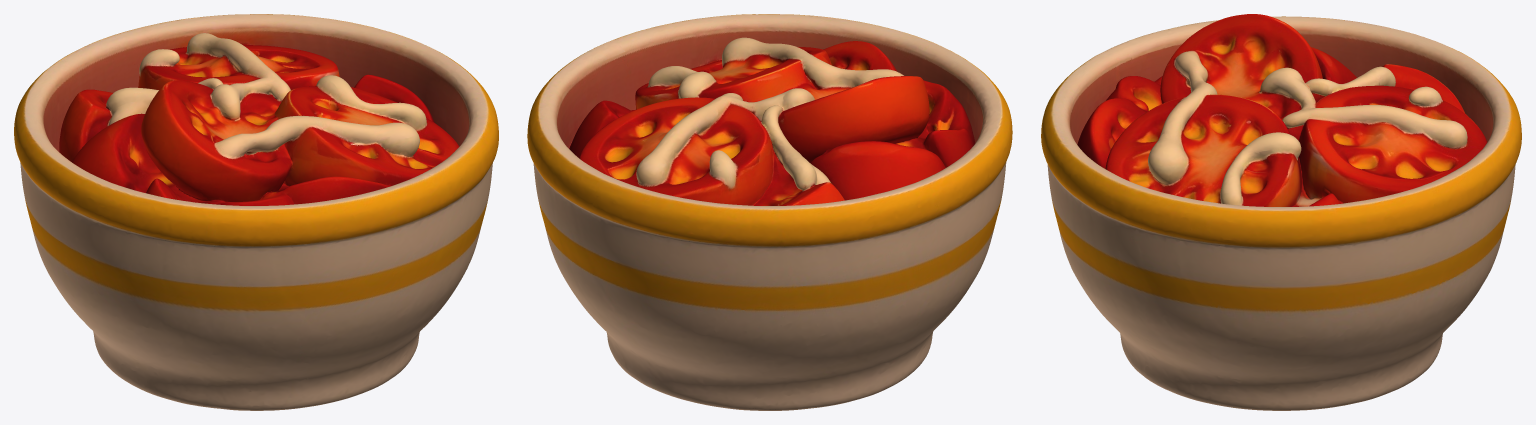
The model's file is tripo_convert_3dd75faa-3956-425a-8363-7b4f3cd69ce3.fbx.
The picture shows the model from 3 angles, left to right: view 1: azimuth 30°, elevation 25°; view 2: azimuth 150°, elevation 25°; view 3: azimuth 270°, elevation 25°; orthographic projection.
Parts seen in each view (by area): view 1: tripo_node_3dd75faa; view 2: tripo_node_3dd75faa; view 3: tripo_node_3dd75faa.
Part boxes in pixels (left/top/right/bottom): tripo_node_3dd75faa: left=14, top=14, right=498, bottom=410; tripo_node_3dd75faa: left=527, top=14, right=1012, bottom=410; tripo_node_3dd75faa: left=1041, top=14, right=1521, bottom=410.
Size of the model in its own units: 1 by 0.6478 by 0.9997.
